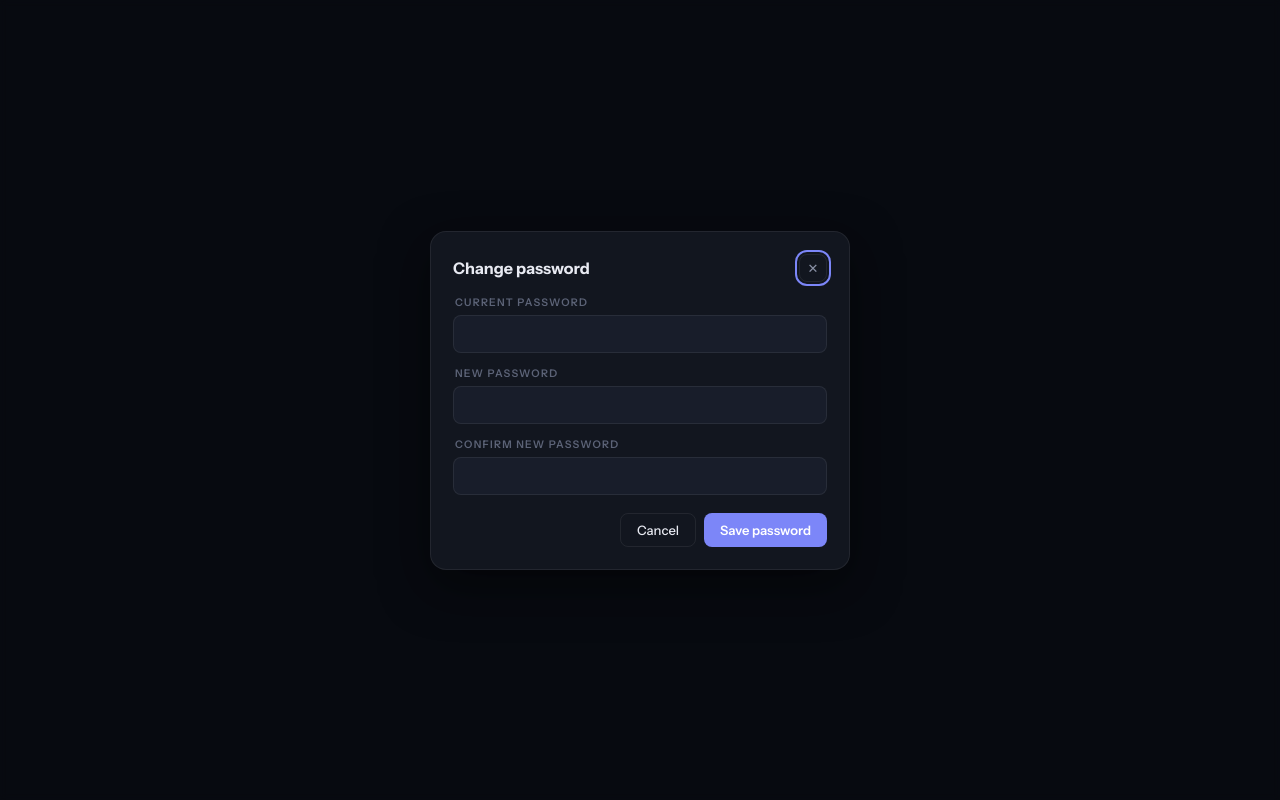
Scenario: the mismatch (FR-AUT-09) › is decided locally and never becomes a request
Type "old" into the password field labelled "CURRENT PASSWORD".
click(640, 334); type("old")  # box [453,314,827,352]
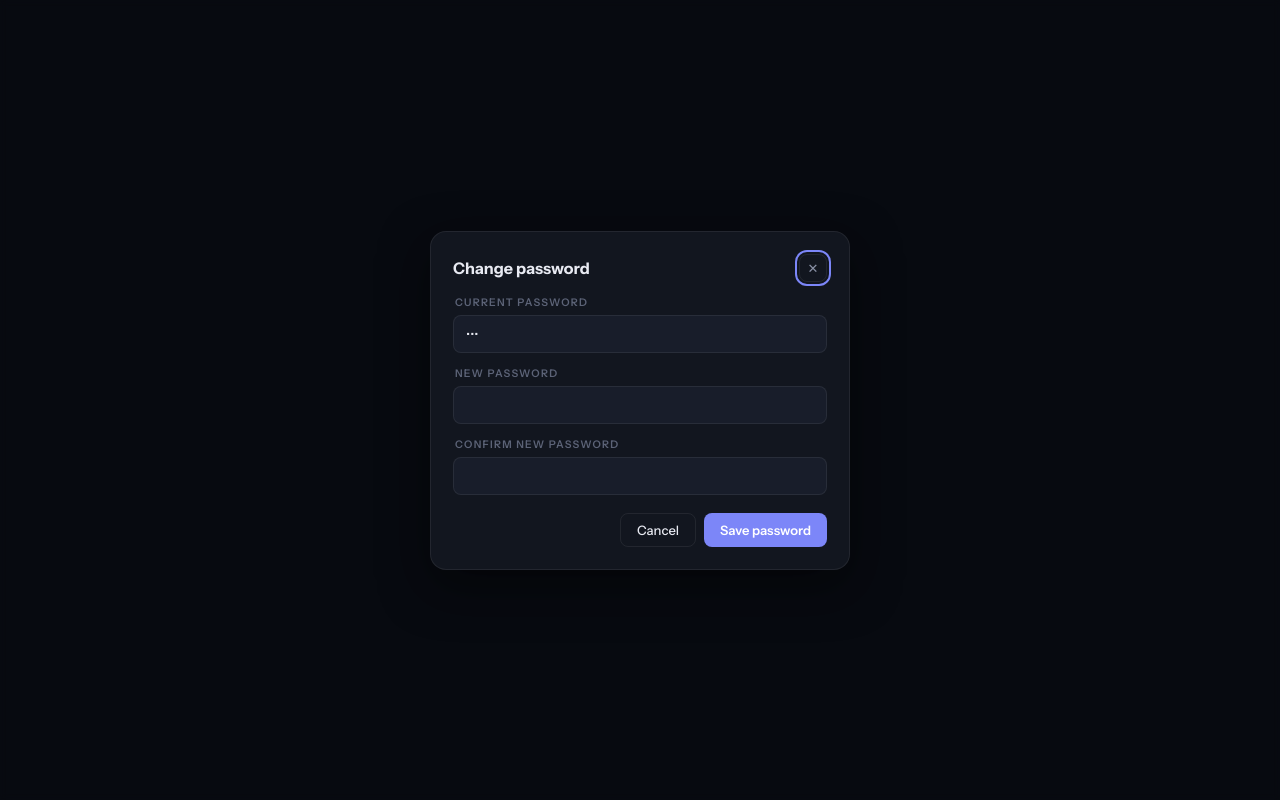
Type "new-one" into the password field labelled "NEW PASSWORD".
click(640, 404); type("new-one")  # box [453,386,827,424]
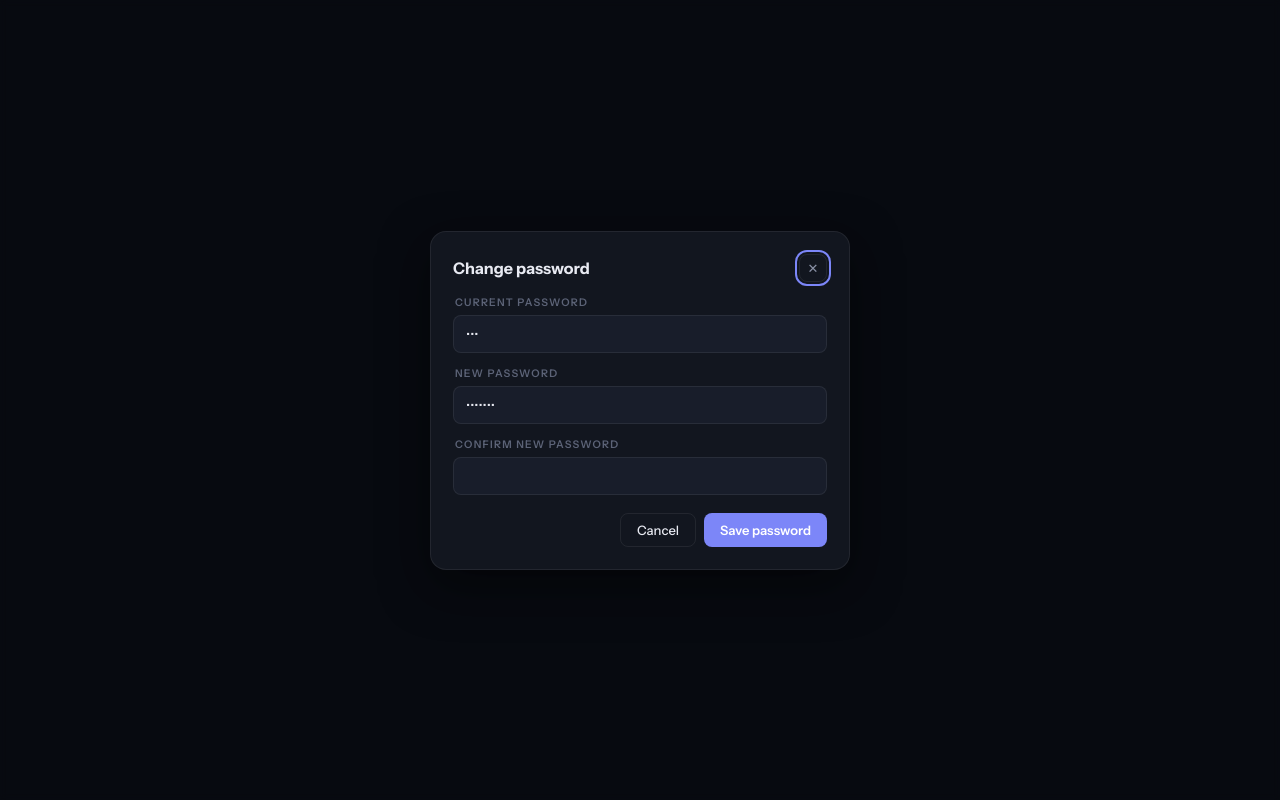
Type "new-two" into the password field labelled "CONFIRM NEW PASSWORD".
click(640, 476); type("new-two")  # box [453,456,827,494]
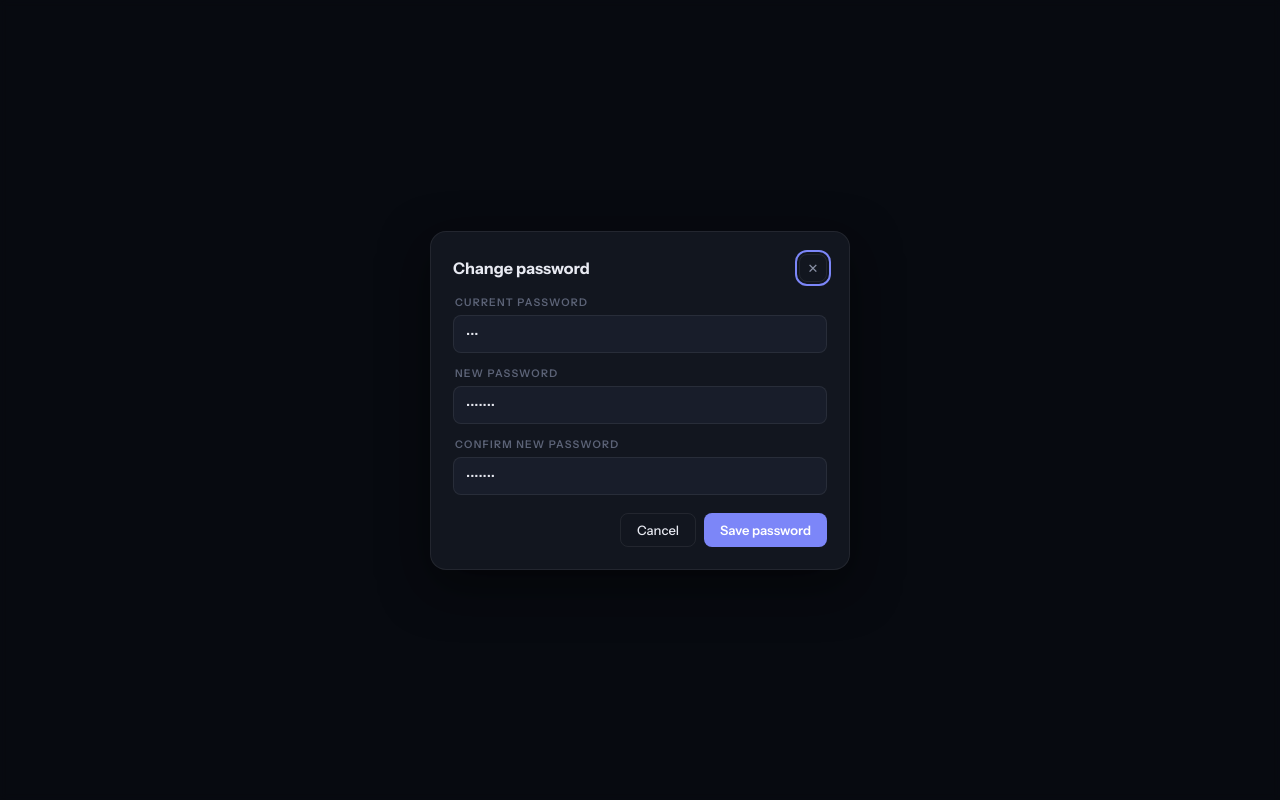
Click the button "Save password".
click(766, 530)  # box [704,512,827,546]
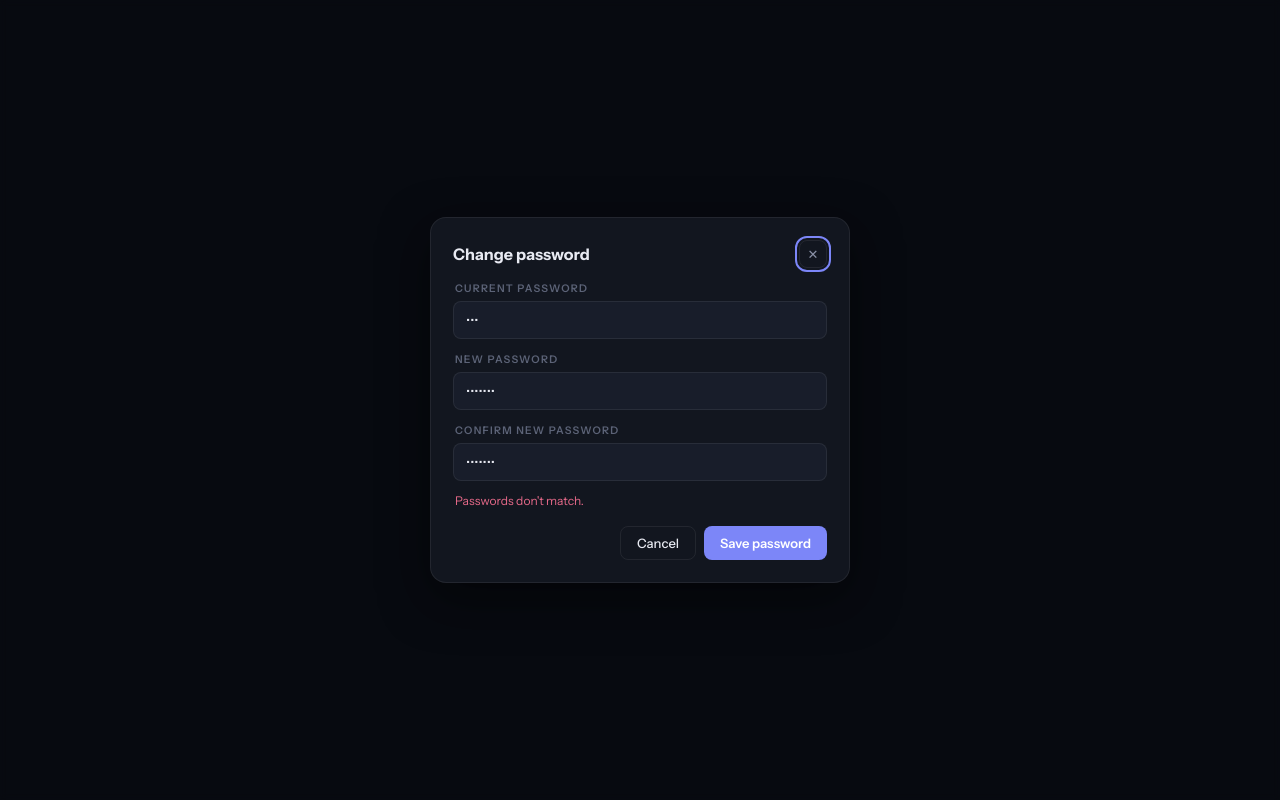
Expected: the message reads "Passwords don't match.", [455,493,584,508]
